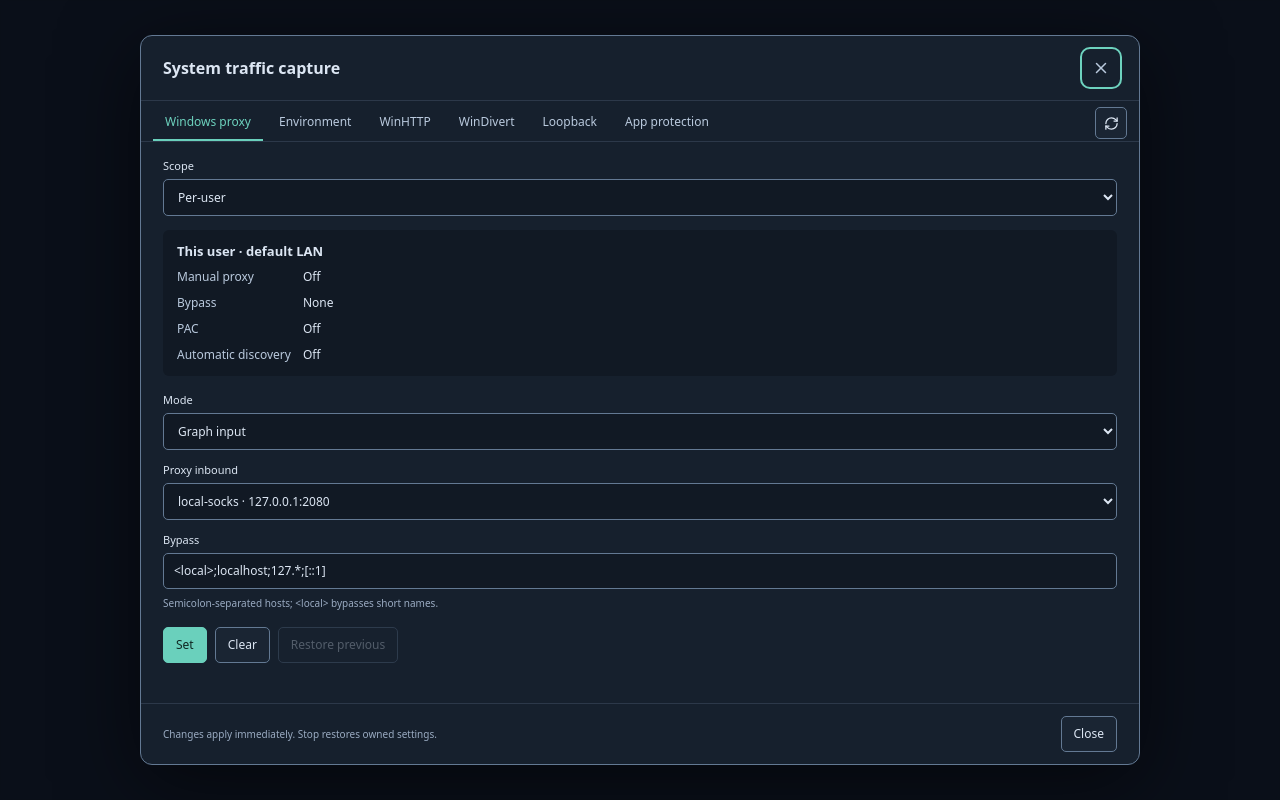
Test case: applies a selected Windows proxy scope directly and refreshes the actual scope
Select "Machine-wide · all users" in the dropdown named "Windows proxy scope" at (640,198), box top-left (163, 179), bottom-right (1117, 216)
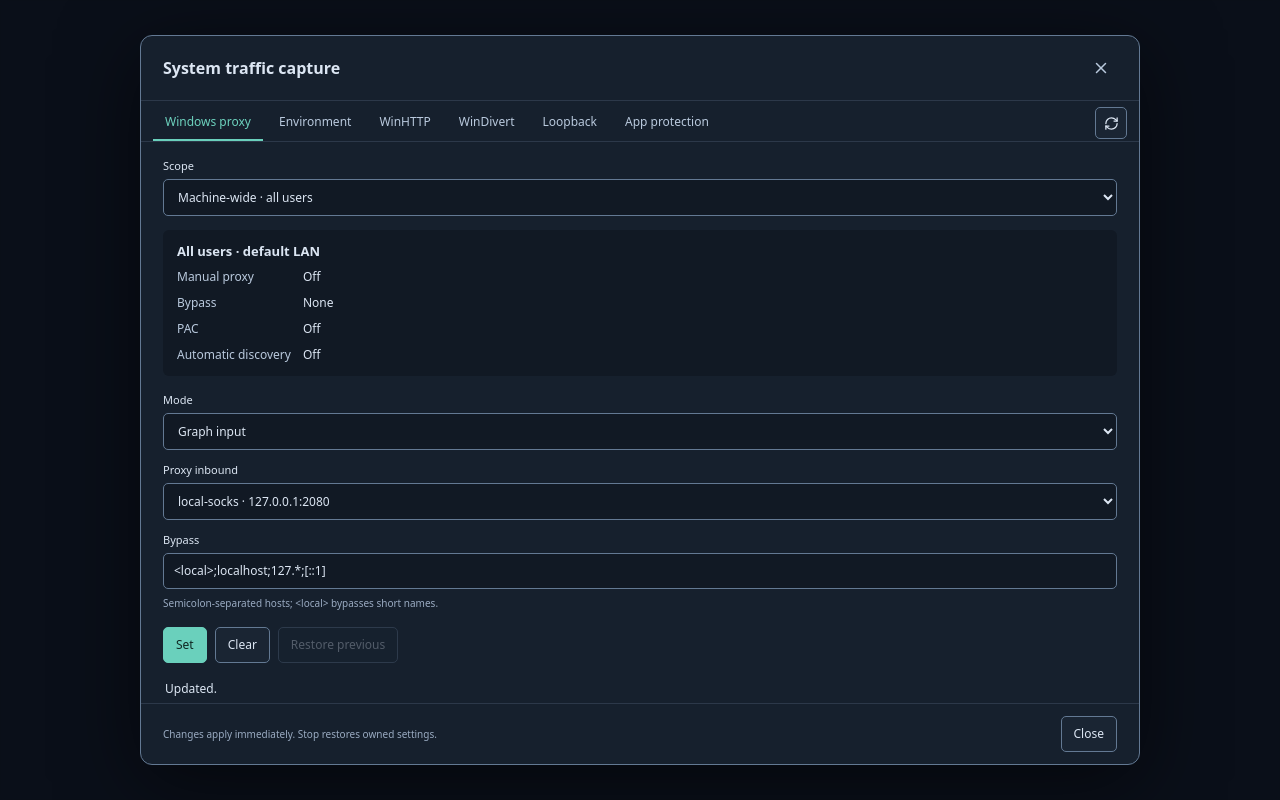
Now the text "All users · default LAN" is shown, box top-left (177, 242), bottom-right (320, 260)
